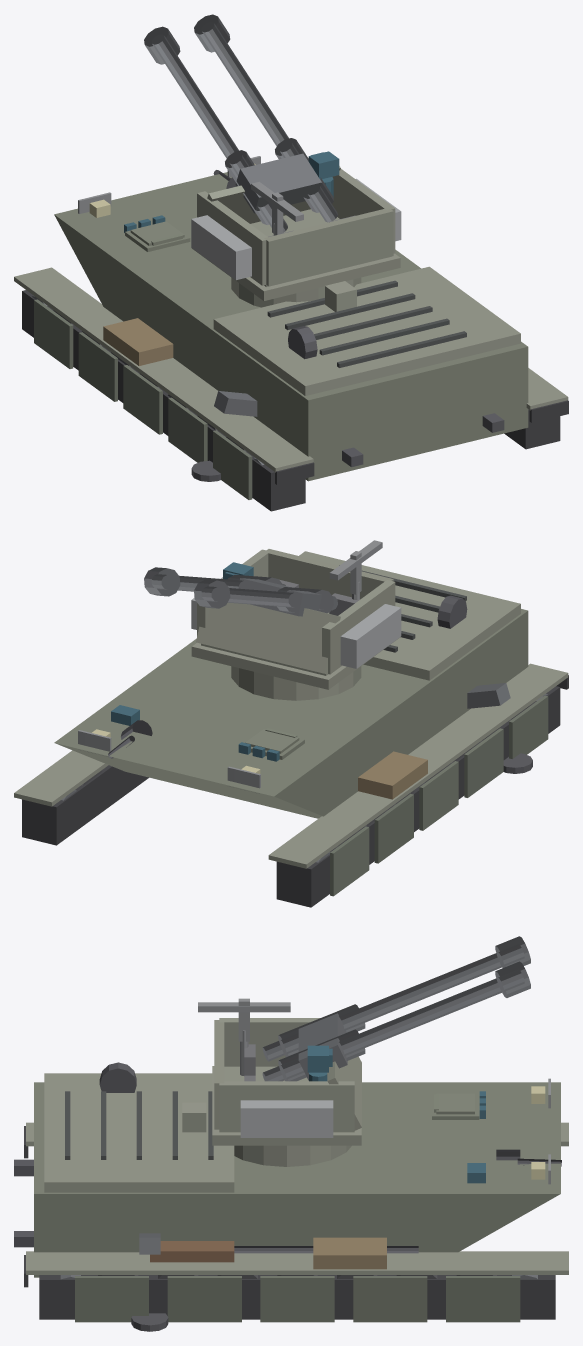
The model's file is western_antiair.glb.
3 views of the same model, one above another, from view 1: azimuth 30°, elevation 25°; view 2: azimuth 150°, elevation 25°; view 3: azimuth 270°, elevation 25° (orthographic). The views are drawn at different scales.
Parts seen in each view (by area): view 1: hull, engine_deck, turret, barrel, skirt_l, fender_l, grille, mount_base, track_l, ammo_l, stowage_l, driver_hatch (+7 smaller); view 2: hull, turret, skirt_l, fender_l, engine_deck, barrel, mount_base, track_r, track_l, fender_r, ammo_l, stowage_l (+10 smaller); view 3: hull, engine_deck, skirt_r, barrel, fender_r, turret, track_r, mount_base, ammo_r, stowage_r, grille, muffler (+7 smaller).
Part boxes in pixels (box(x1,y1,x2,y2)): hull: box(54, 172, 528, 481); engine_deck: box(213, 266, 520, 395); turret: box(197, 166, 395, 287); barrel: box(144, 14, 337, 232); skirt_l: box(34, 299, 252, 499); fender_l: box(14, 267, 313, 472); grille: box(267, 280, 466, 367); mount_base: box(192, 248, 400, 311); track_l: box(22, 290, 305, 511); ammo_l: box(191, 215, 251, 280); stowage_l: box(103, 318, 173, 365); driver_hatch: box(125, 221, 190, 251); hull: box(54, 609, 528, 818); turret: box(196, 549, 395, 675); skirt_l: box(330, 695, 548, 896); fender_l: box(268, 663, 568, 868); engine_deck: box(299, 551, 520, 680); barrel: box(144, 567, 337, 616); mount_base: box(191, 637, 400, 700); track_r: box(22, 765, 148, 845); track_l: box(276, 686, 560, 907); fender_r: box(14, 750, 108, 806); ammo_l: box(340, 604, 401, 668); stowage_l: box(358, 751, 427, 799); hull: box(34, 1082, 560, 1277); engine_deck: box(44, 1073, 234, 1192); skirt_r: box(75, 1276, 520, 1322); barrel: box(262, 936, 530, 1081); fender_r: box(26, 1251, 568, 1274); turret: box(214, 1018, 361, 1132); track_r: box(39, 1275, 555, 1319); mount_base: box(182, 1066, 361, 1166); ammo_r: box(240, 1100, 333, 1137); stowage_r: box(313, 1237, 386, 1269); grille: box(65, 1091, 213, 1159); muffler: box(150, 1241, 234, 1262).
Bounding box in the file's own units: 5.66 × 4.58 × 7.79.
